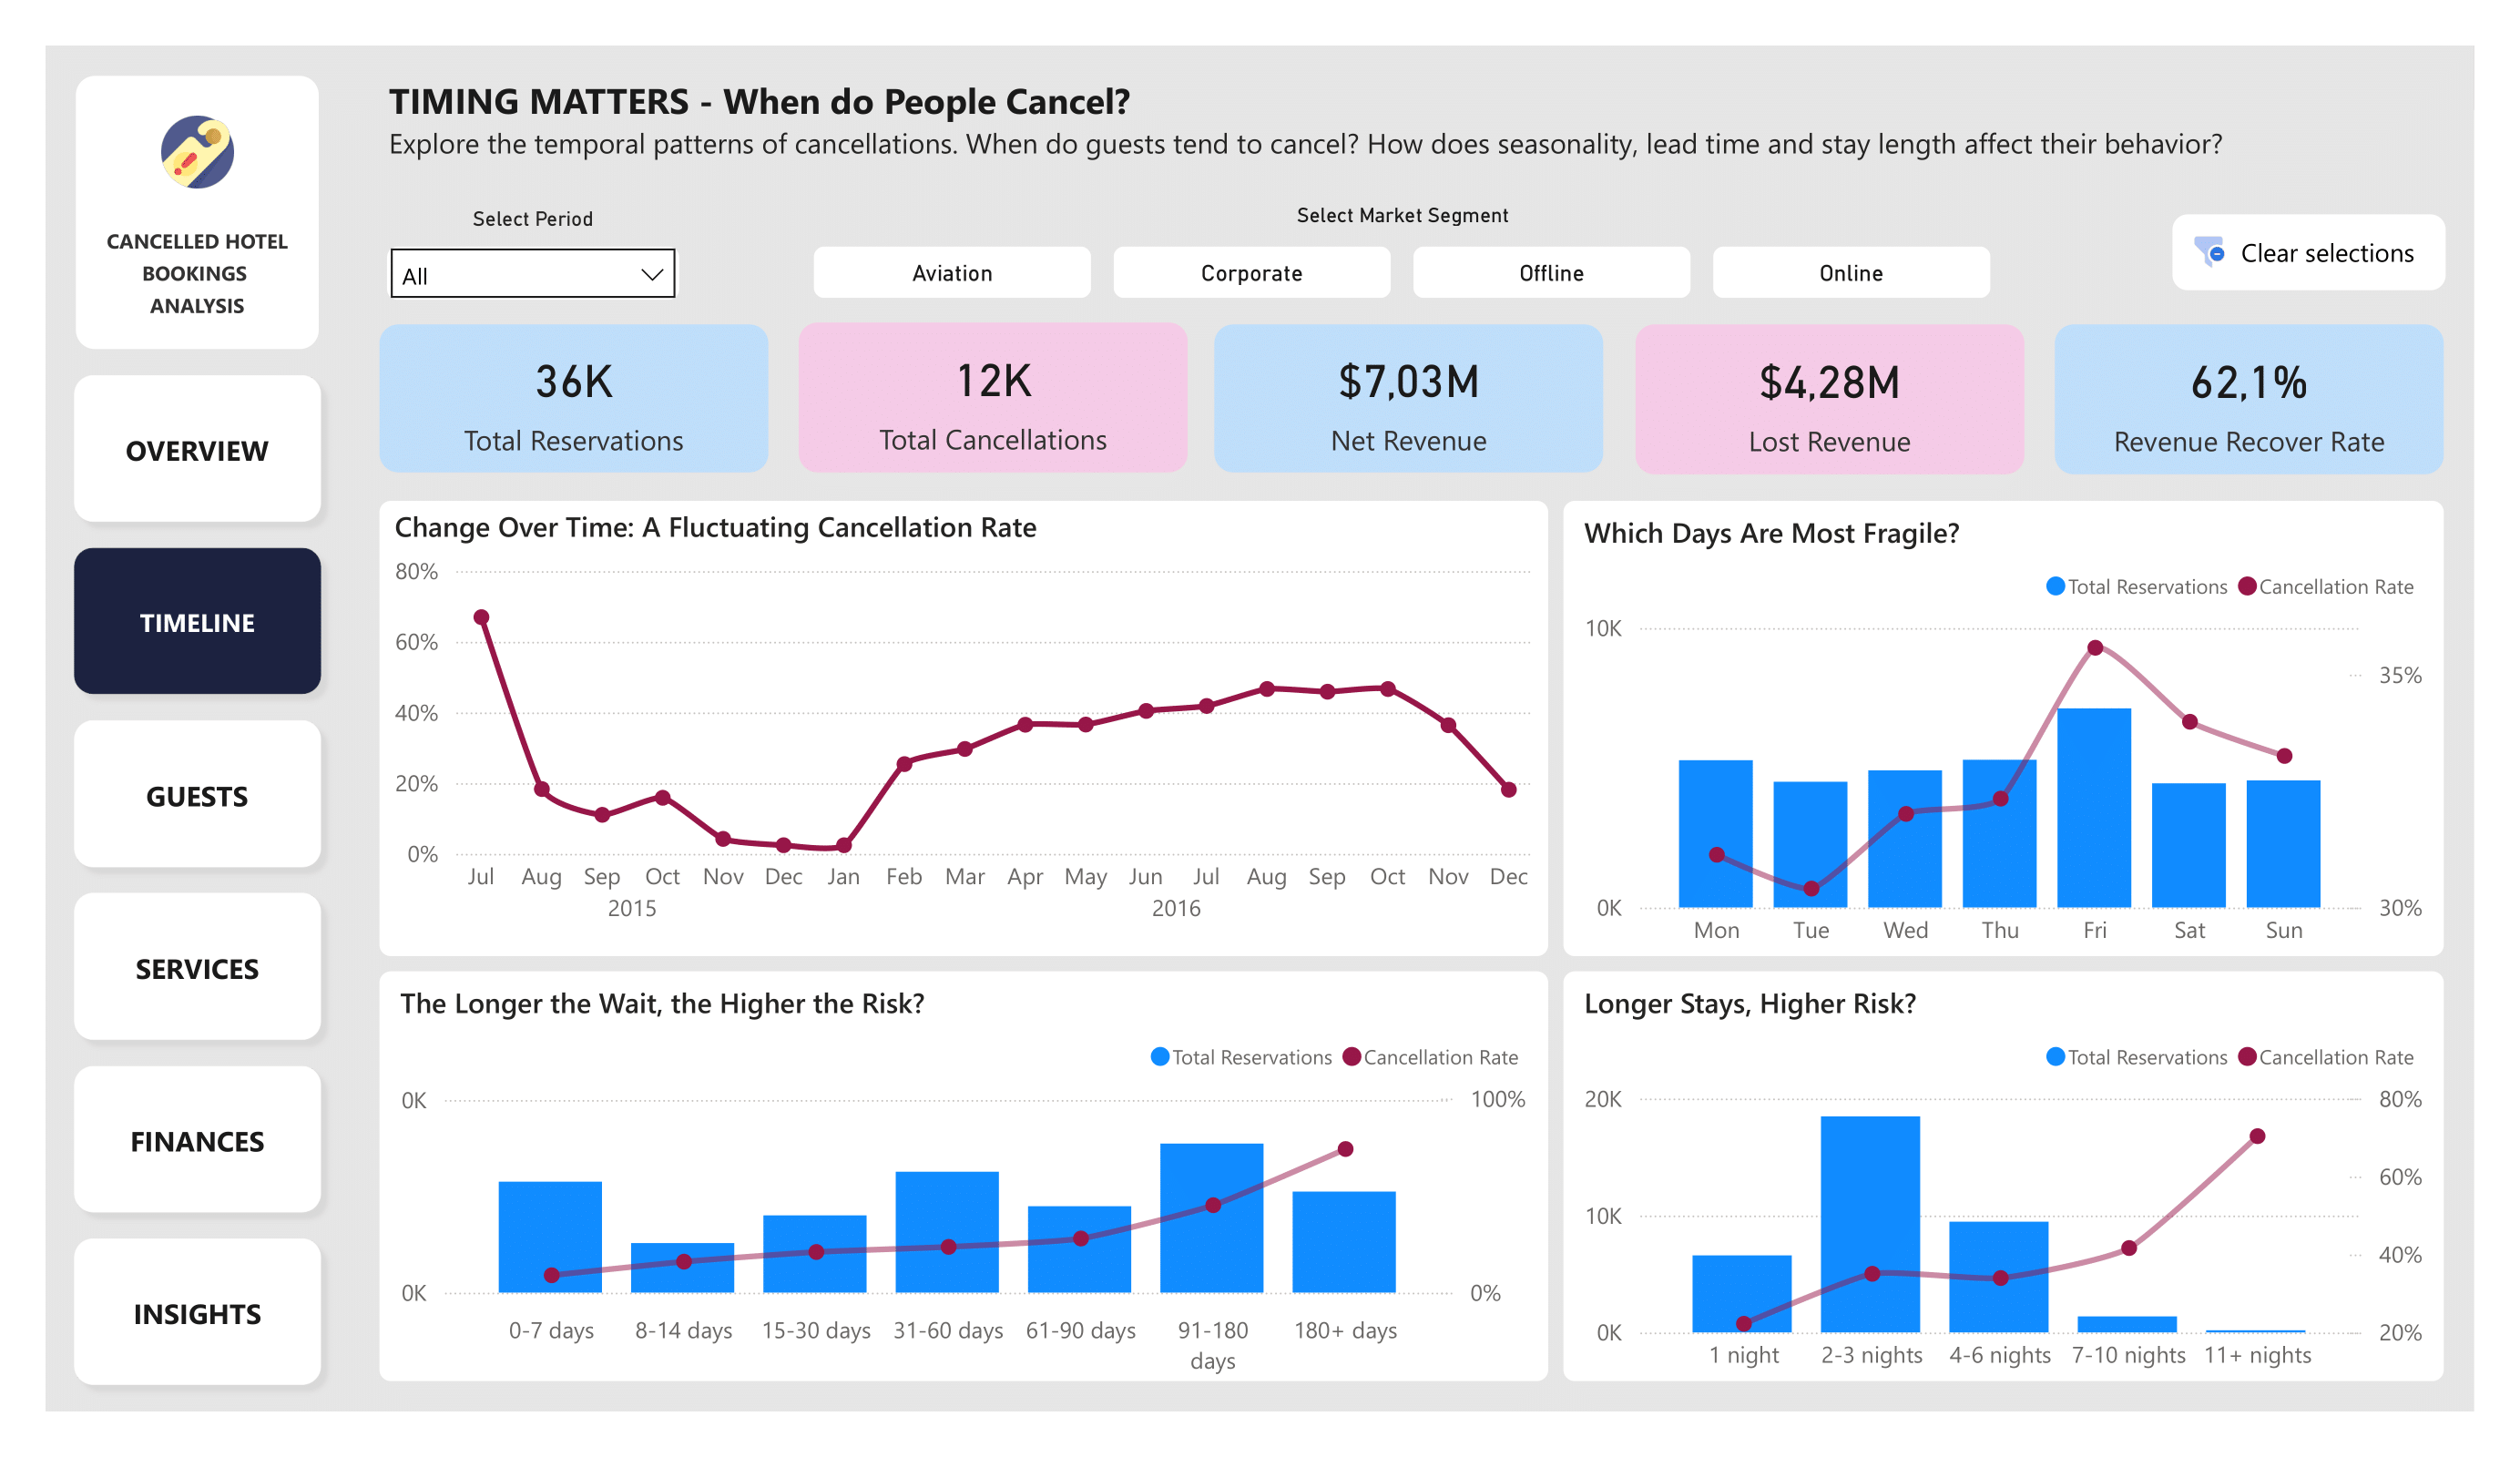

This screenshot's page, from the dashboard's own definition file:
{"tool":"powerbi","page":{"name":"TIMELINE","canvas":[1280,720],"ordinal":1},"visuals":[{"type":"textbox","box":[16,16,128,144],"z":0},{"type":"advancedSlicerVisual","title":"Select Market Segment","fields":{"Values":["Reservations.Market segment"]},"box":[399.9,73,631,64],"z":0,"group":"g1"},{"type":"shape","box":[180,106,154,28],"z":0,"group":"g4"},{"type":"card","fields":{"Values":["_Measures.Total reservations"]},"box":[176,147,205,78.2],"z":0,"group":"g3"},{"type":"slicer","title":" Select Period","fields":{"Values":["Calendar.Date.Variation.Date Hierarchy.Year","Calendar.Date.Variation.Date Hierarchy.Quarter","Calendar.Date.Variation.Date Hierarchy.Month"]},"box":[177,85,160,48],"z":1000,"group":"g4"},{"type":"card","fields":{"Values":["_Measures.Total canceled reservations"]},"box":[396.6,146,205,78.9],"z":1000,"group":"g3"},{"type":"pageNavigator","box":[8.2,167.2,144.3,549.2],"z":1000},{"type":"image","box":[48,32,64,48],"z":2000},{"type":"group","id":"g1","title":"Group 3","box":[399.9,73,864.1,64],"z":2000,"group":"g5"},{"type":"group","id":"g2","title":"Group 2","box":[1119.5,89,144.5,40],"z":2000,"group":"g1"},{"type":"card","fields":{"Values":["_Measures.Total revenue"]},"box":[615.7,146.6,205,78.3],"z":2000,"group":"g3"},{"type":"group","id":"g3","title":"Group 1","box":[176,146,1088,80],"z":3000},{"type":"card","fields":{"Values":["_Measures.Lost revenue"]},"box":[838.2,147.1,205,78.9],"z":3000,"group":"g3"},{"type":"card","fields":{"Values":["_Measures.Revenue recover rate"]},"box":[1059,147.1,205,78.9],"z":4000,"group":"g3"},{"type":"lineChart","title":"Change Over Time: A Fluctuating Cancellation Rate","fields":{"Y":["_Measures.Cancellation rate"],"Category":["Calendar.Month Short Name Hierarchy.Year","Calendar.Month Short Name Hierarchy.Month Short Name"]},"box":[176,240,616,240],"z":4000},{"type":"lineClusteredColumnComboChart","title":"The Longer the Wait, the Higher the Risk?","fields":{"Y":["_Measures.Total Reservations"],"Y2":["_Measures.Cancellation Rate"],"Category":["Reservations.Lead Time Range"]},"box":[176,488,616,216],"z":5000},{"type":"actionButton","box":[1120.1,89,143.9,40],"z":6000,"group":"g2"},{"type":"lineClusteredColumnComboChart","title":"Longer Stays, Higher Risk?","fields":{"Y2":["_Measures.Cancellation Rate"],"Y":["_Measures.Total Reservations"],"Category":["Reservations.Length of Stay Range"]},"box":[800,488,464,216],"z":6000},{"type":"lineClusteredColumnComboChart","title":"Which Days Are Most Fragile?","fields":{"Category":["Calendar.Month Short Name Hierarchy.Weekday Name"],"Y2":["_Measures.Cancellation Rate"],"Y":["_Measures.Total Reservations"]},"box":[800,240,464,240],"z":7000},{"type":"textbox","box":[176,6,1088,70],"z":8000},{"type":"group","id":"g4","title":"Group 4","box":[177,85,160,49],"z":8001,"group":"g5"},{"type":"group","id":"g5","title":"Group 6","box":[177,73,1087,64],"z":9000},{"type":"image","box":[1119.5,93,40,32],"z":11000,"group":"g2"}]}

Visuals, with their boxes on the page's 1280x720 design canvas (x1, y1, x2, y2). These are canvas units, not pixel positions in the 2520x1457 screenshot, which may show the page scaled, cropped or inside an application window:
textbox: 16, 16, 144, 160
"Select Market Segment" advancedSlicerVisual: 400, 73, 1031, 137
shape: 180, 106, 334, 134
card - _Measures.Total reservations: 176, 147, 381, 225
" Select Period" slicer: 177, 85, 337, 133
card - _Measures.Total canceled reservations: 397, 146, 602, 225
pageNavigator: 8, 167, 152, 716
image: 48, 32, 112, 80
"Group 3" group: 400, 73, 1264, 137
"Group 2" group: 1120, 89, 1264, 129
card - _Measures.Total revenue: 616, 147, 821, 225
"Group 1" group: 176, 146, 1264, 226
card - _Measures.Lost revenue: 838, 147, 1043, 226
card - _Measures.Revenue recover rate: 1059, 147, 1264, 226
"Change Over Time: A Fluctuating Cancellation Rate" lineChart: 176, 240, 792, 480
"The Longer the Wait, the Higher the Risk?" lineClusteredColumnComboChart: 176, 488, 792, 704
actionButton: 1120, 89, 1264, 129
"Longer Stays, Higher Risk?" lineClusteredColumnComboChart: 800, 488, 1264, 704
"Which Days Are Most Fragile?" lineClusteredColumnComboChart: 800, 240, 1264, 480
textbox: 176, 6, 1264, 76
"Group 4" group: 177, 85, 337, 134
"Group 6" group: 177, 73, 1264, 137
image: 1120, 93, 1160, 125
